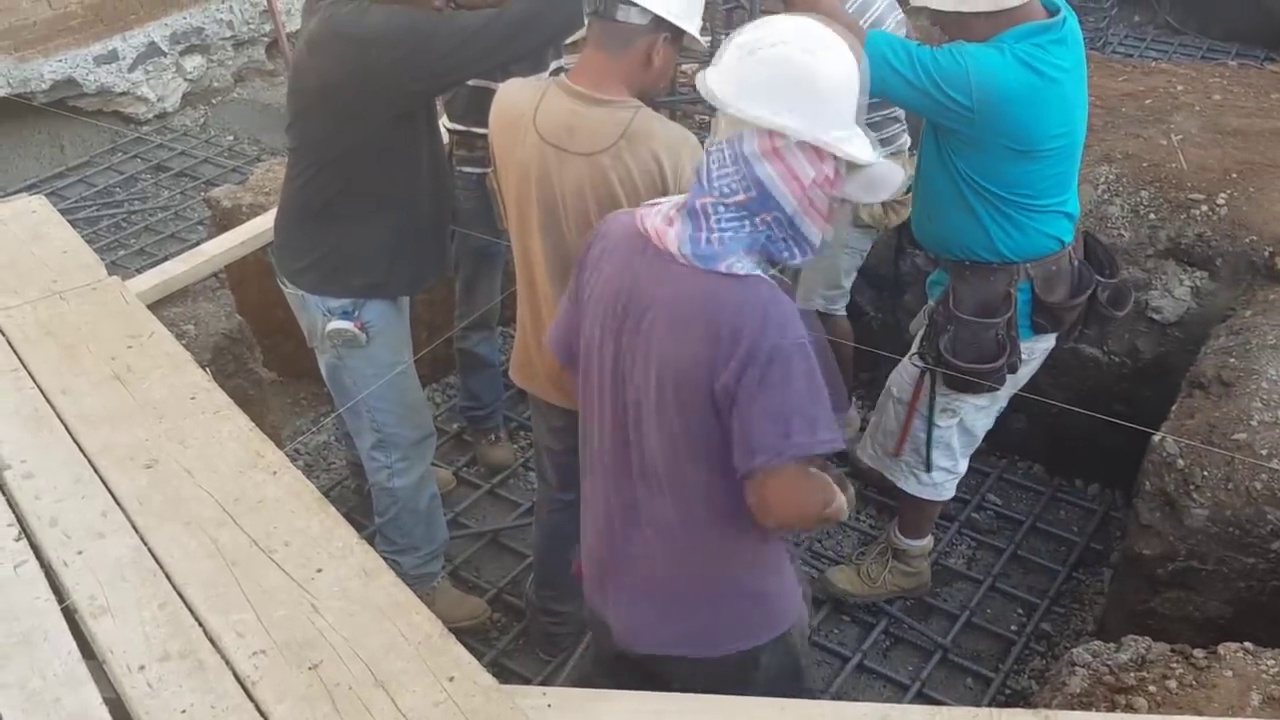helmet: (706, 13, 865, 159), (630, 3, 706, 52)
helmet-on: (678, 11, 866, 234), (564, 3, 707, 98)
person: (558, 9, 876, 699), (266, 0, 515, 632), (865, 0, 1102, 614), (479, 8, 747, 331), (781, 0, 916, 449)
